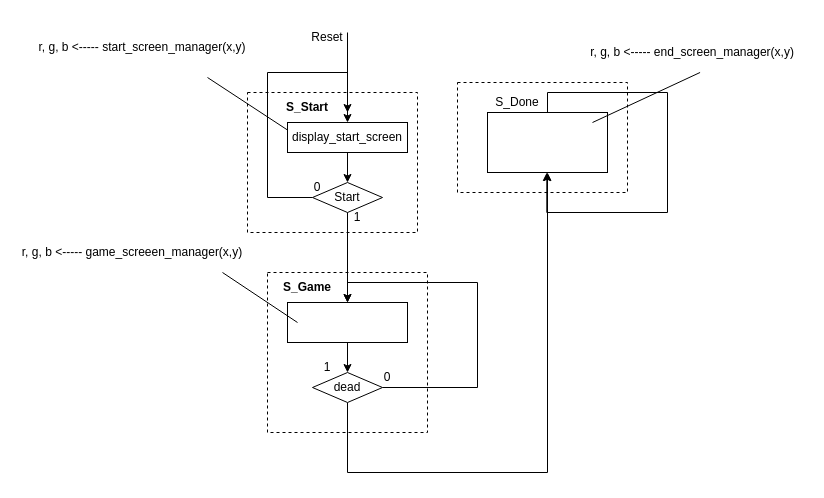
This 824x498 diagram has some shape labels left out. Here are the shapes that lost their labels. From the top down, the centre of each, then its label:
At point (547, 142): "display_end_screen".
At point (347, 322): "enable_play display_game".
